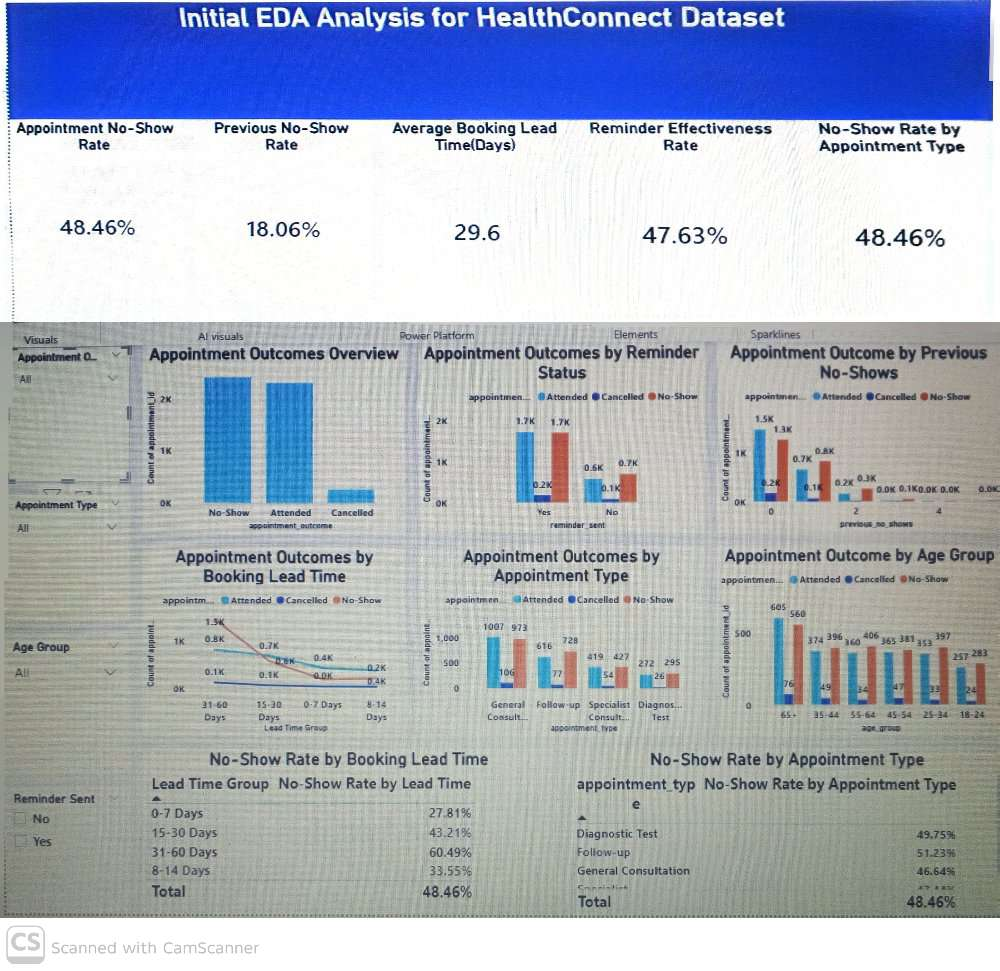

Layout of this report page (visuals, bound fields, positions):
{"tool":"powerbi","page":{"name":"Initial EDA","canvas":[1280,720],"ordinal":1},"visuals":[{"type":"clusteredColumnChart","title":"Appointment Outcomes  Overview","fields":{"Category":["in.appointment_outcome"],"Y":["CountNonNull(in.appointment_id)"]},"box":[176,0,336,240],"z":0},{"type":"clusteredColumnChart","title":"Appointment Outcomes by Reminder Status","fields":{"Category":["HealthConnect_Appointment_Data.reminder_sent"],"Y":["CountNonNull(HealthConnect_Appointment_Data.appointment_id)"],"Series":["HealthConnect_Appointment_Data.appointment_outcome"]},"box":[528,0,368,240],"z":1000},{"type":"clusteredColumnChart","title":"Appointment Outcome by Previous No-Shows","fields":{"Category":["HealthConnect_Appointment_Data.previous_no_shows"],"Y":["CountNonNull(HealthConnect_Appointment_Data.appointment_id)"],"Series":["HealthConnect_Appointment_Data.appointment_outcome"]},"box":[912,0,368,240],"z":2000},{"type":"lineChart","title":"Appointment Outcomes by Booking Lead Time","fields":{"Series":["HealthConnect_Appointment_Data.appointment_outcome"],"Y":["CountNonNull(HealthConnect_Appointment_Data.appointment_id)"],"Category":["HealthConnect_Appointment_Data.Lead Time Group"]},"box":[176,256,336,240],"z":3000},{"type":"clusteredColumnChart","title":"Appointment Outcomes by Appointment Type","fields":{"Category":["HealthConnect_Appointment_Data.appointment_type"],"Y":["CountNonNull(HealthConnect_Appointment_Data.appointment_id)"],"Series":["HealthConnect_Appointment_Data.appointment_outcome"]},"box":[528,256,368,240],"z":4000},{"type":"clusteredColumnChart","title":"Appointment Outcome by Age Group","fields":{"Category":["HealthConnect_Appointment_Data.age_group"],"Y":["CountNonNull(HealthConnect_Appointment_Data.appointment_id)"],"Series":["HealthConnect_Appointment_Data.appointment_outcome"]},"box":[912,256,368,240],"z":5000},{"type":"tableEx","title":"No-Show Rate by Booking Lead Time","fields":{"Values":["HealthConnect_Appointment_Data.Lead Time Group","HealthConnect_Appointment_Data.No-Show Rate by Lead Time"]},"box":[176,512,528,208],"z":6000},{"type":"tableEx","title":"No-Show Rate by Appointment Type","fields":{"Values":["HealthConnect_Appointment_Data.appointment_type","HealthConnect_Appointment_Data.No-Show Rate by Appointment Type"]},"box":[720,512,560,208],"z":7000},{"type":"slicer","fields":{"Values":["HealthConnect_Appointment_Data.appointment_outcome"]},"box":[0,0,160,176],"z":8000},{"type":"slicer","fields":{"Values":["HealthConnect_Appointment_Data.appointment_type"]},"box":[0,192,160,160],"z":9000},{"type":"slicer","fields":{"Values":["HealthConnect_Appointment_Data.age_group"]},"box":[0,368,160,176],"z":10000},{"type":"slicer","fields":{"Values":["HealthConnect_Appointment_Data.reminder_sent"]},"box":[0,560,160,160],"z":11000}]}

Visuals, with their boxes on the page's 1280x720 design canvas (x1, y1, x2, y2). These are canvas units, not pixel positions in the 1000x971 screenshot, which may show the page scaled, cropped or inside an application window:
"Appointment Outcomes  Overview" clusteredColumnChart: box=[176, 0, 512, 240]
"Appointment Outcomes by Reminder Status" clusteredColumnChart: box=[528, 0, 896, 240]
"Appointment Outcome by Previous No-Shows" clusteredColumnChart: box=[912, 0, 1280, 240]
"Appointment Outcomes by Booking Lead Time" lineChart: box=[176, 256, 512, 496]
"Appointment Outcomes by Appointment Type" clusteredColumnChart: box=[528, 256, 896, 496]
"Appointment Outcome by Age Group" clusteredColumnChart: box=[912, 256, 1280, 496]
"No-Show Rate by Booking Lead Time" tableEx: box=[176, 512, 704, 720]
"No-Show Rate by Appointment Type" tableEx: box=[720, 512, 1280, 720]
slicer - HealthConnect_Appointment_Data.appointment_outcome: box=[0, 0, 160, 176]
slicer - HealthConnect_Appointment_Data.appointment_type: box=[0, 192, 160, 352]
slicer - HealthConnect_Appointment_Data.age_group: box=[0, 368, 160, 544]
slicer - HealthConnect_Appointment_Data.reminder_sent: box=[0, 560, 160, 720]
